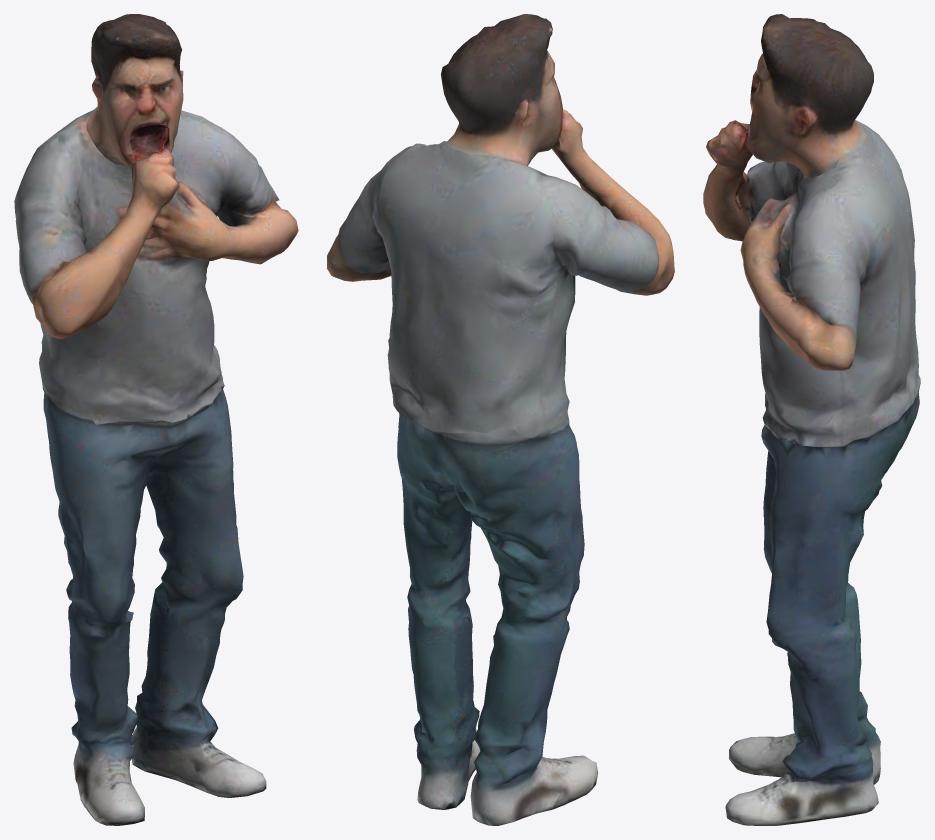
The model's file is ManCoughing.glb.
The picture shows the model from 3 angles, left to right: view 1: azimuth 30°, elevation 25°; view 2: azimuth 150°, elevation 25°; view 3: azimuth 270°, elevation 25°; orthographic projection.
Parts seen in each view (by area): view 1: ManCoughing, Torso, Head, Arm; view 2: Torso, ManCoughing, Head, Arm; view 3: Torso, ManCoughing, Head, Arm.
Part boxes in pixels (x1,y1,x2,y2): ManCoughing: (42, 215, 266, 825); Torso: (14, 110, 298, 424); Head: (86, 14, 183, 174); Arm: (33, 148, 178, 338); Torso: (327, 141, 658, 438); ManCoughing: (397, 414, 597, 825); Head: (441, 14, 562, 165); Arm: (552, 109, 674, 295); Torso: (740, 120, 920, 446); ManCoughing: (713, 154, 920, 825); Head: (743, 14, 873, 178); Arm: (703, 120, 752, 241).
Bounding box in the file's own units: 0.7005 × 1.75 × 0.454.
1 material, 1 textured.
